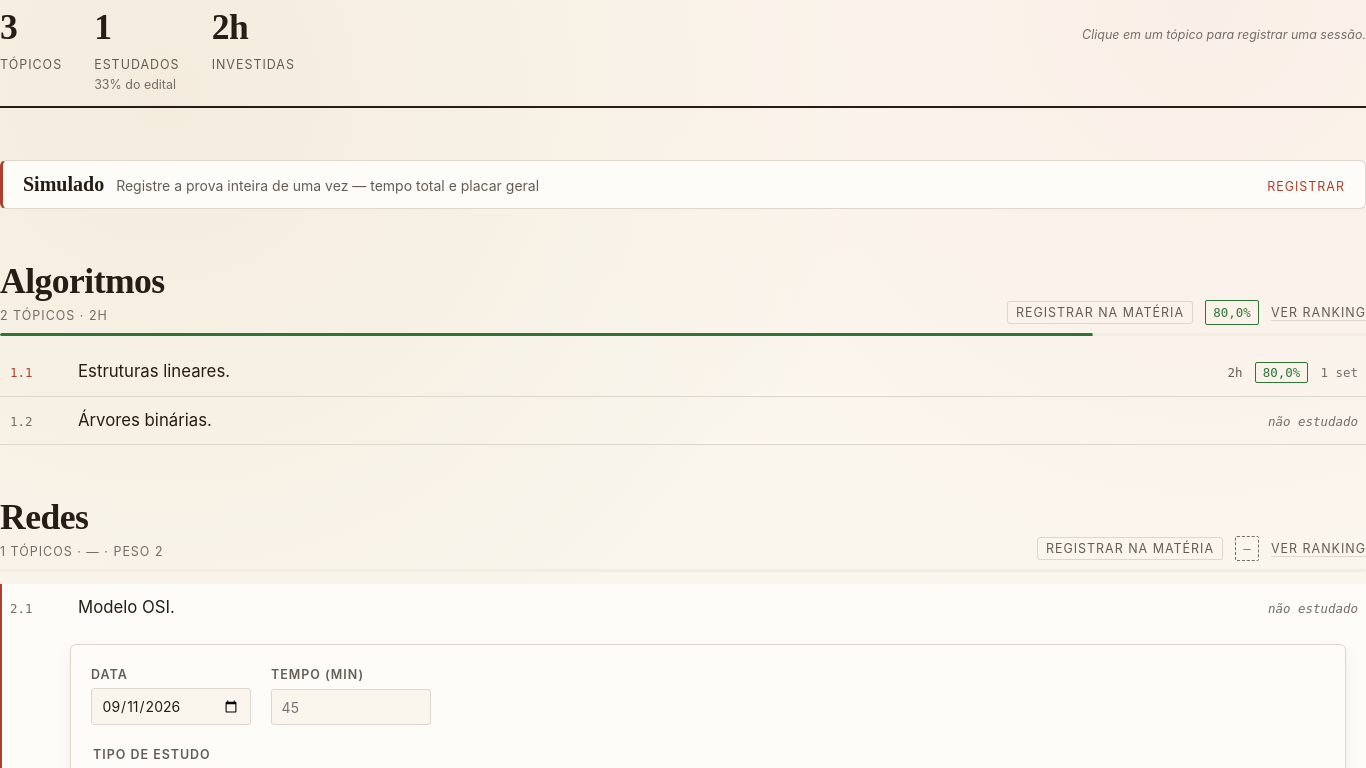
Test: PaginaEdital › clicar de novo no mesmo topico fecha e limpa a URL
Click the button "2.1 Modelo OSI. não estudado" at (126, 607), box [0,584,1365,632]
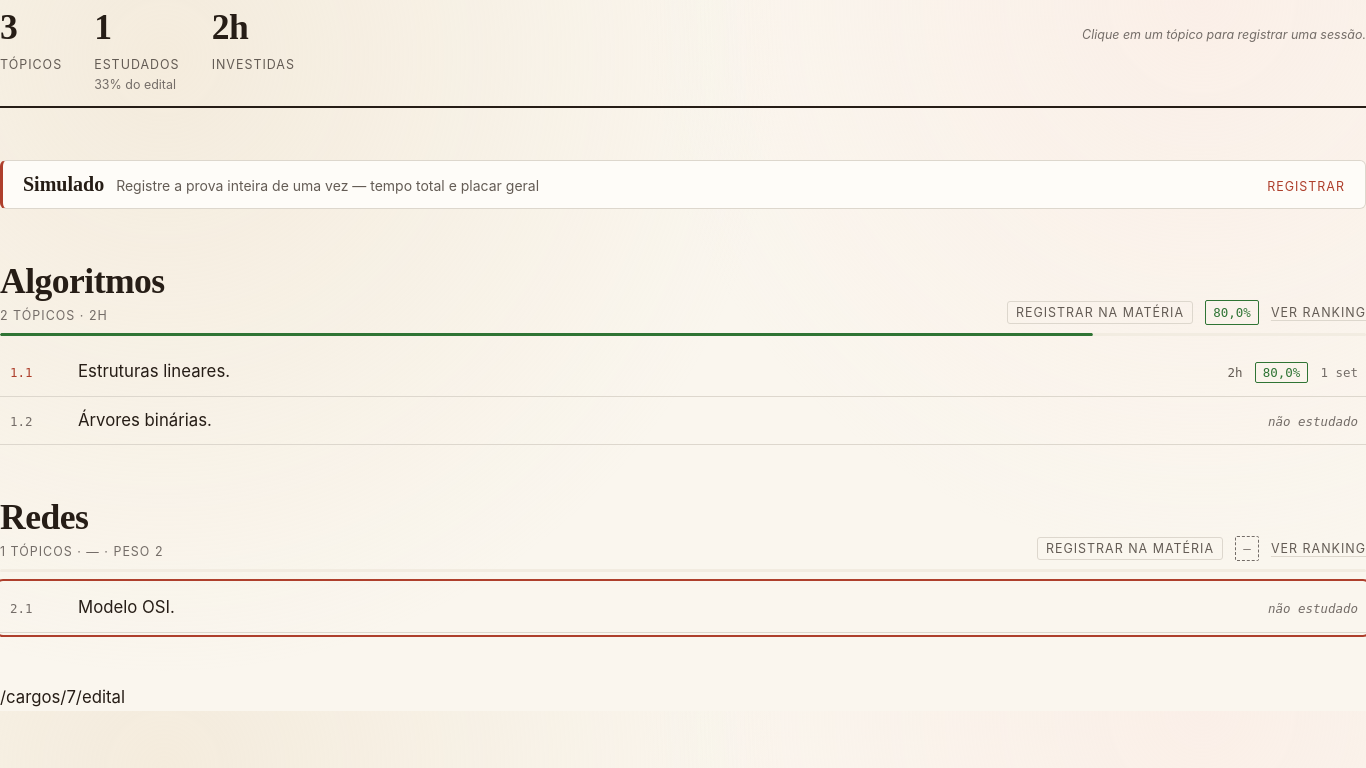
expect the text with test id "url" does not show "topico=90": met, box [0,687,125,707]
expect the text with test id "url" reads "/cargos/7/edital": met, box [0,687,125,707]
